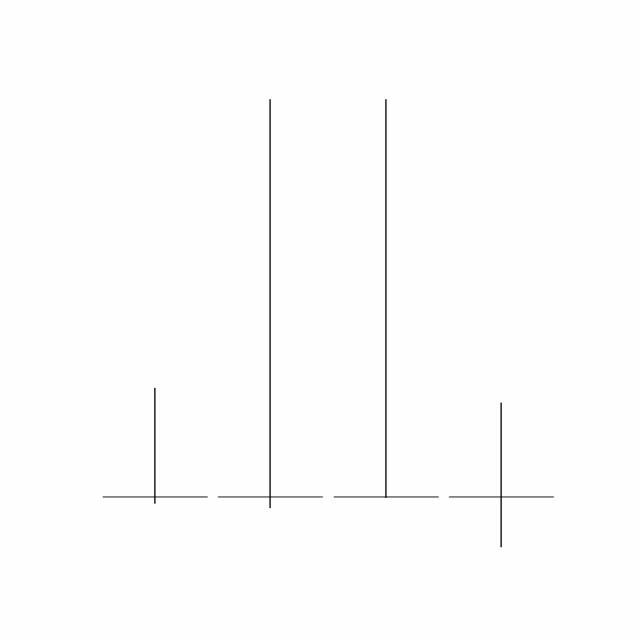Gravestone Doji: (329, 95, 445, 503)
